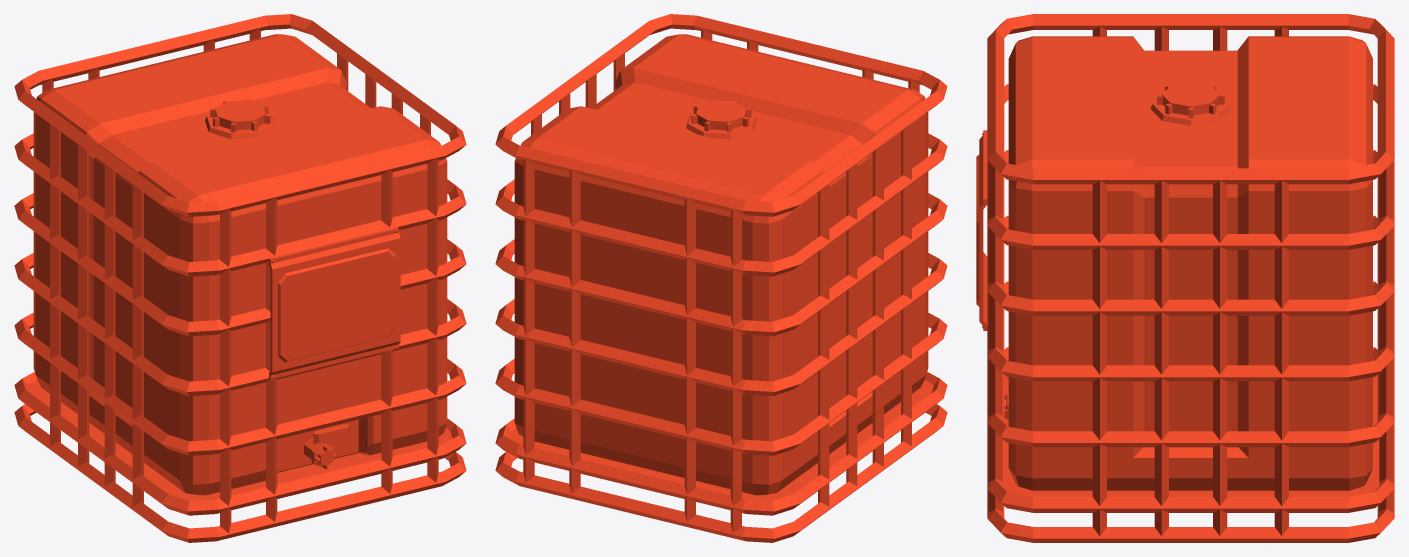
Rendered from SM_Water_Tank_City.fbx.
3 renders of one model, left to right at view 1: azimuth 30°, elevation 25°; view 2: azimuth 150°, elevation 25°; view 3: azimuth 270°, elevation 25°, orthographic. The views are drawn at different scales.
Parts seen in each view (by area): view 1: SM_Water_Tank_City; view 2: SM_Water_Tank_City; view 3: SM_Water_Tank_City.
Boxes of the visible parts, x1=… form: SM_Water_Tank_City: x1=14, y1=14, x2=466, y2=542; SM_Water_Tank_City: x1=495, y1=14, x2=947, y2=542; SM_Water_Tank_City: x1=976, y1=14, x2=1394, y2=542.
Bounding box in the file's own units: 1.27 × 1.38 × 1.39.
